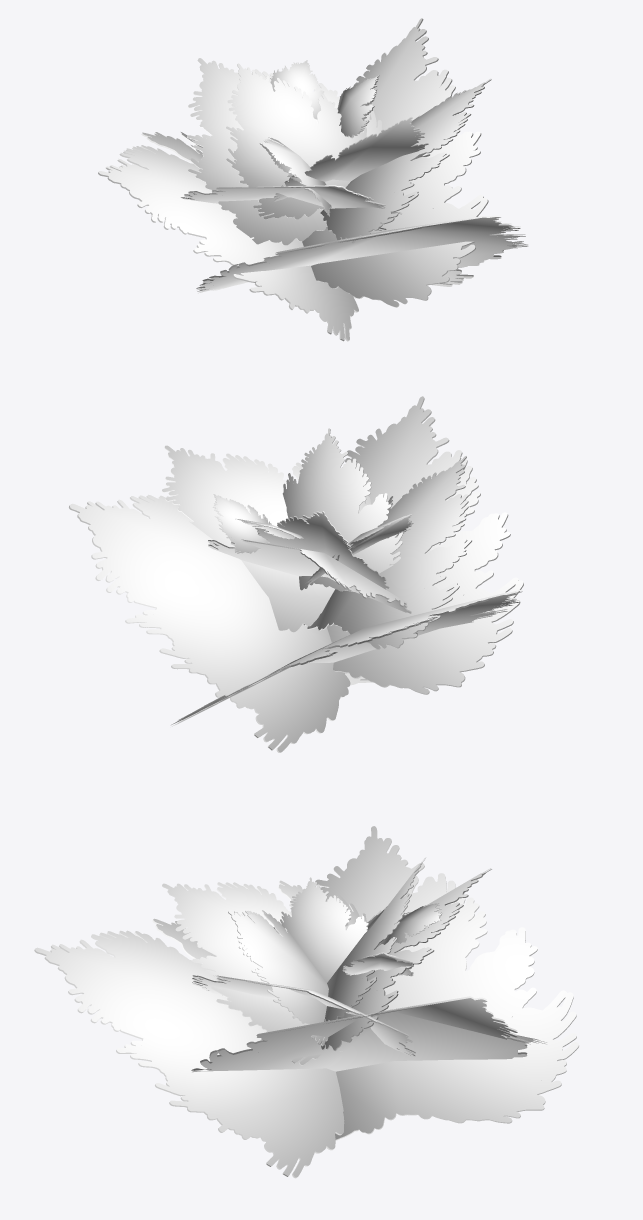
The model's file is Bush.fbx.
The picture shows the model from 3 angles, top to bottom: view 1: azimuth 30°, elevation 25°; view 2: azimuth 150°, elevation 25°; view 3: azimuth 270°, elevation 25°; orthographic projection. The views are drawn at different scales.
Visible parts, largest first — view 1: bush; view 2: bush; view 3: bush.
Part boxes in pixels (x1,y1,x2,y2): bush: (98,18,528,341); bush: (69,396,523,752); bush: (34,826,578,1178).
Size of the model in its own units: 1710 by 839 by 1653.
Materials: 1 (1 with a texture image).
